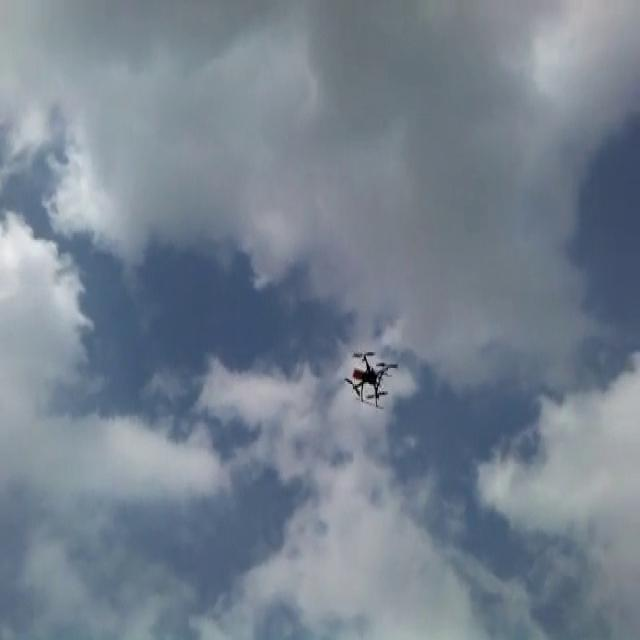drone: (342, 345, 398, 409)
